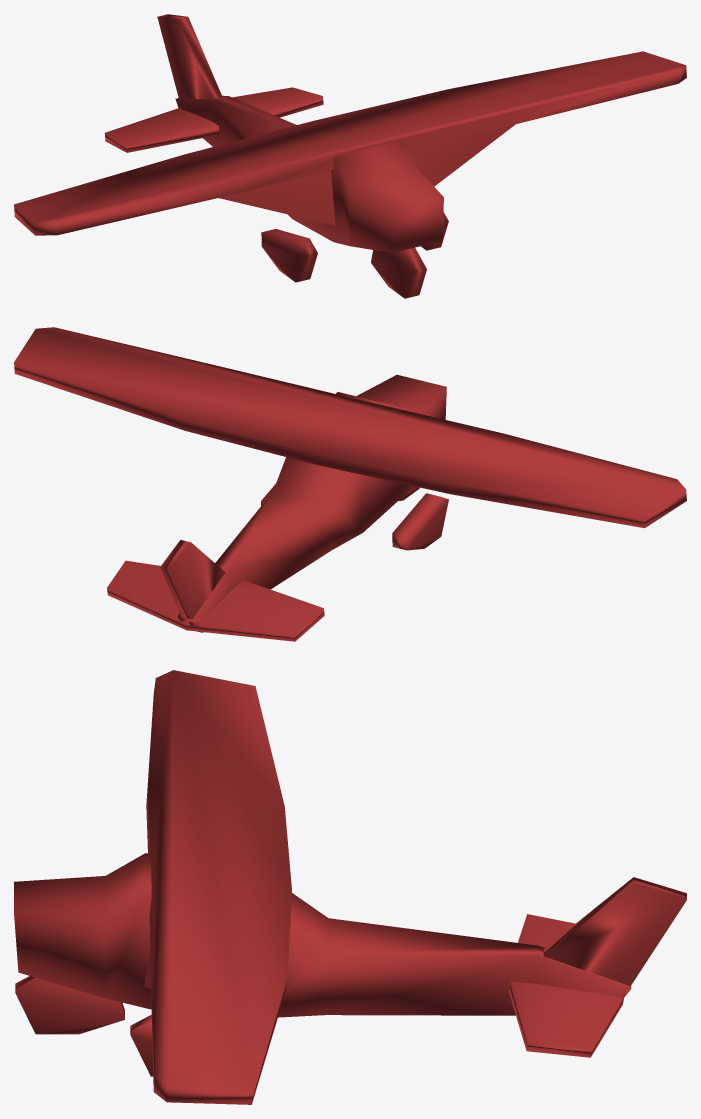
The model's file is colmesh_sportflugzeug_cessna_01.fbx.
The picture shows the model from 3 angles, top to bottom: view 1: azimuth 30°, elevation 25°; view 2: azimuth 150°, elevation 25°; view 3: azimuth 270°, elevation 25°; orthographic projection. The views are drawn at different scales.
Visible parts, largest first — view 1: body_main; view 2: body_main; view 3: body_main.
Part boxes in pixels (x1,y1,x2,y2): body_main: [14, 14, 686, 298]; body_main: [14, 327, 686, 641]; body_main: [14, 670, 686, 1104].
Bounding box in the file's own units: 986 × 170 × 673.
